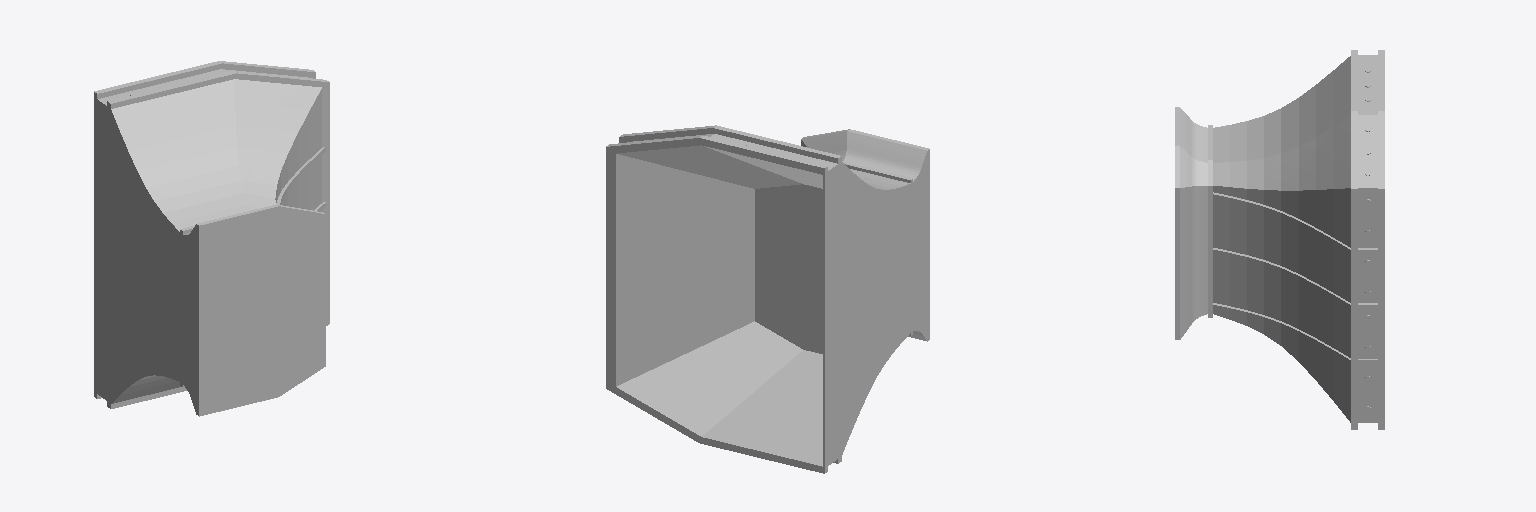
File: oven_fan1.obj
The picture shows the model from 3 angles: view 1: azimuth 30°, elevation 25°; view 2: azimuth 150°, elevation 25°; view 3: azimuth 270°, elevation 25°; orthographic projection.
Visible parts, largest first — view 1: Decorative_Hood_II_OBJ; view 2: Decorative_Hood_II_OBJ; view 3: Decorative_Hood_II_OBJ.
Boxes of the visible parts, x1=… form: Decorative_Hood_II_OBJ: x1=94, y1=61, x2=329, y2=416; Decorative_Hood_II_OBJ: x1=606, y1=125, x2=929, y2=473; Decorative_Hood_II_OBJ: x1=1175, y1=50, x2=1384, y2=429.
Size of the model in its own units: 0.72 by 0.96 by 0.6.